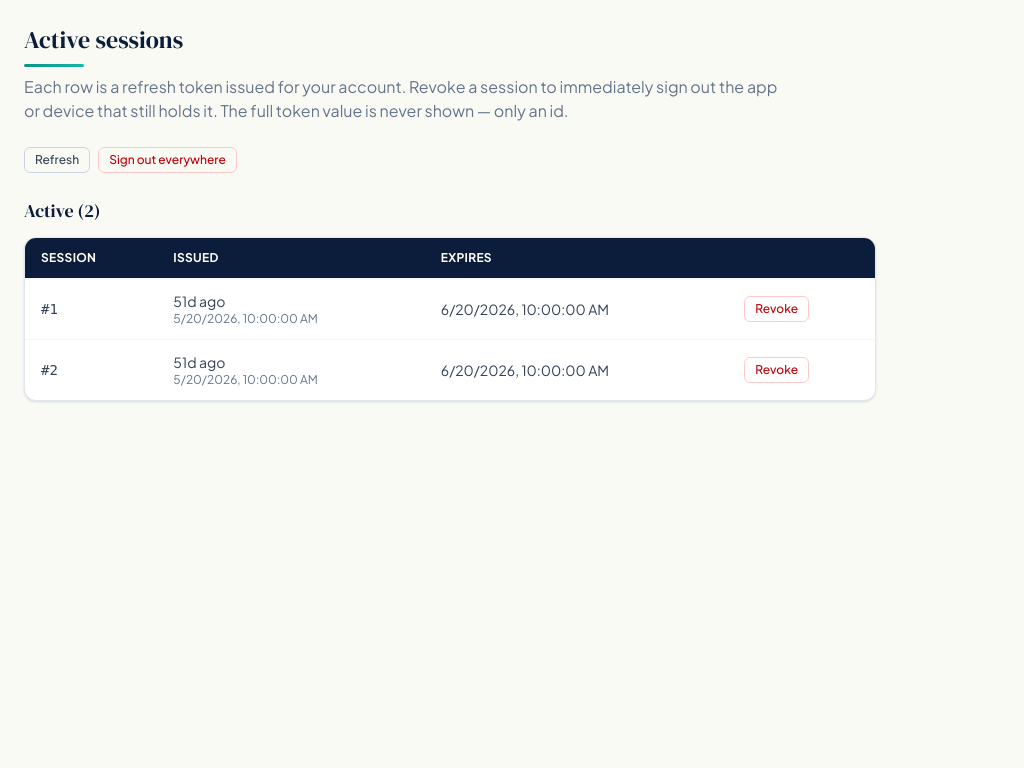
Test: SessionsPage › signs out everywhere via the modal
Check: the heading "Active (2)" is shown, box x1=24 y1=198 x2=100 y2=223
Click the button "Sign out everywhere" at (167, 160), box x1=98 y1=147 x2=237 y2=173
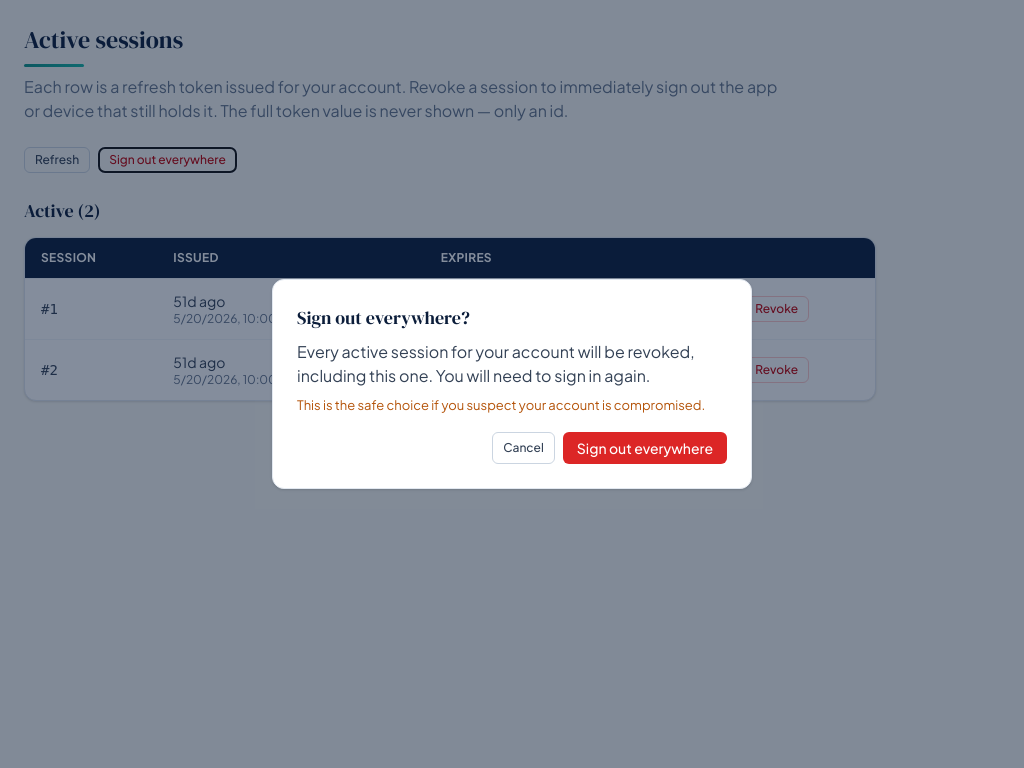
Check: the dialog "Sign out everywhere" is shown
Click the button "Sign out everywhere" at (645, 448), box x1=563 y1=432 x2=727 y2=464
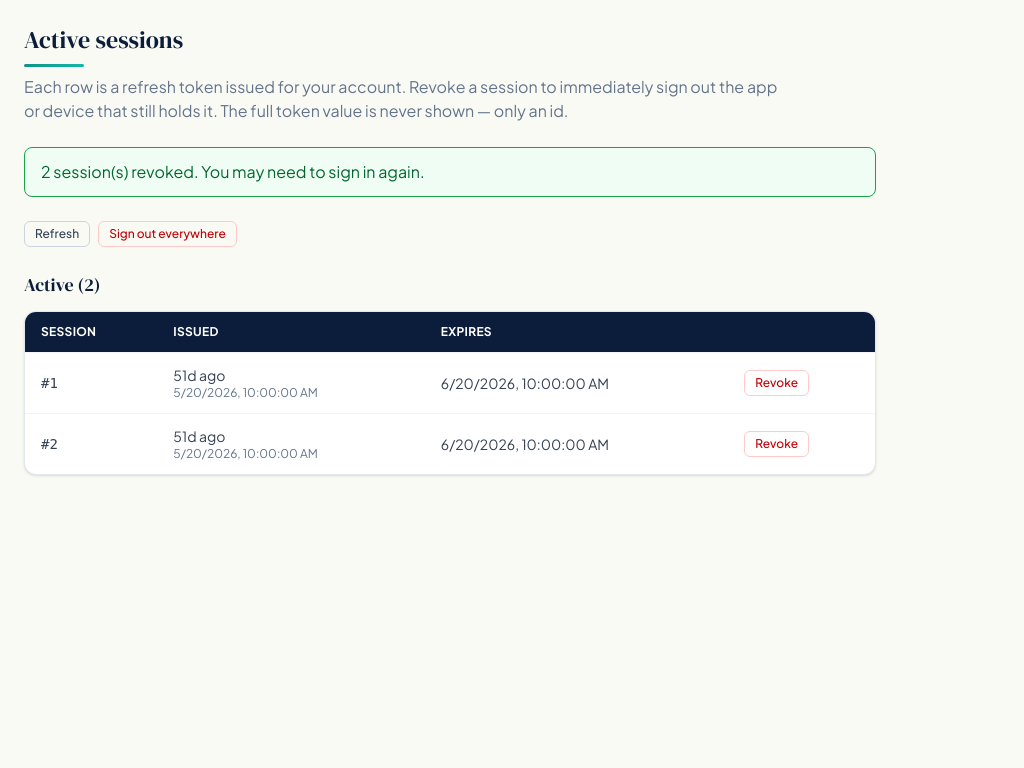
Check: the text "2 session(s) revoked. You may need to sign in again." is shown, box x1=24 y1=147 x2=876 y2=197
